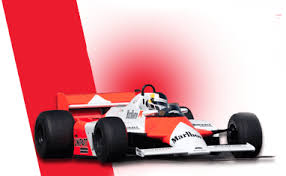f1_car: (31, 81, 273, 166)
